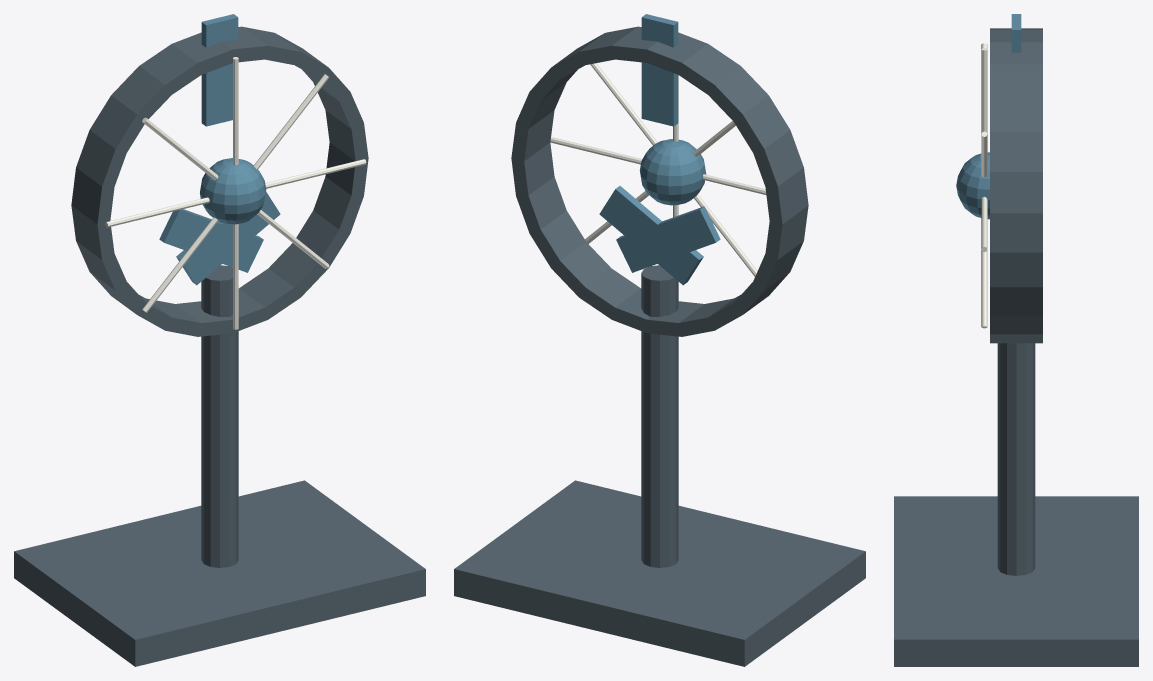
The model's file is american-football-stadium-kit-sideline-fan-33f2beed__22338.glb.
3 views of the same model, side by side, from view 1: azimuth 30°, elevation 25°; view 2: azimuth 150°, elevation 25°; view 3: azimuth 270°, elevation 25° (orthographic).
Visible parts, largest first — view 1: sideline-fan; view 2: sideline-fan; view 3: sideline-fan.
Boxes of the visible parts, x1,y1,x2,y2 form: sideline-fan: [14, 14, 425, 666]; sideline-fan: [454, 14, 865, 666]; sideline-fan: [894, 14, 1138, 666].
Size of the model in its own units: 0.9001 by 1.68 by 0.6501.
